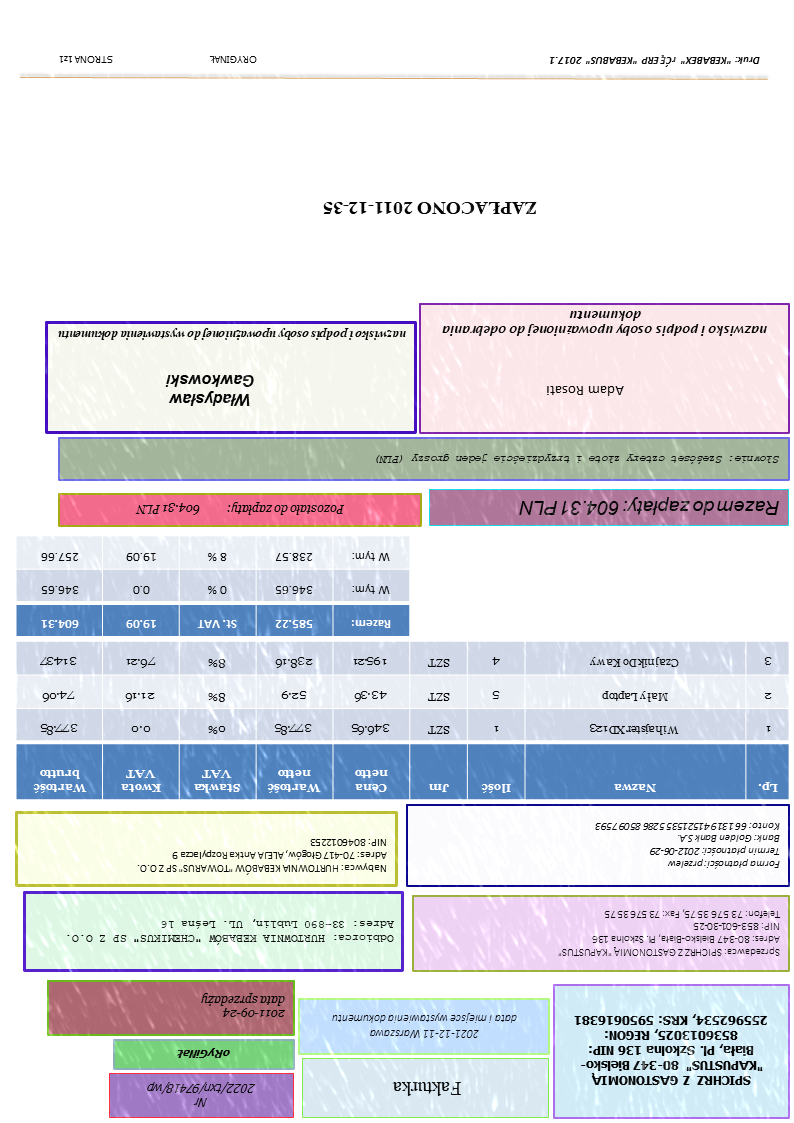Table: (16, 640, 790, 800), (16, 535, 410, 637)
TextBox: (572, 1013, 771, 1088), (556, 908, 782, 959), (64, 917, 396, 947), (135, 836, 390, 875), (441, 309, 771, 339), (593, 820, 782, 871), (56, 325, 409, 343), (514, 495, 784, 518), (372, 452, 782, 467), (330, 1011, 522, 1041), (319, 198, 540, 219), (134, 500, 348, 518), (145, 1078, 260, 1111), (164, 372, 256, 411), (547, 53, 763, 68), (199, 990, 288, 1019), (391, 1078, 464, 1098), (545, 383, 628, 398), (175, 1045, 234, 1062), (58, 52, 116, 65), (209, 53, 260, 66)
